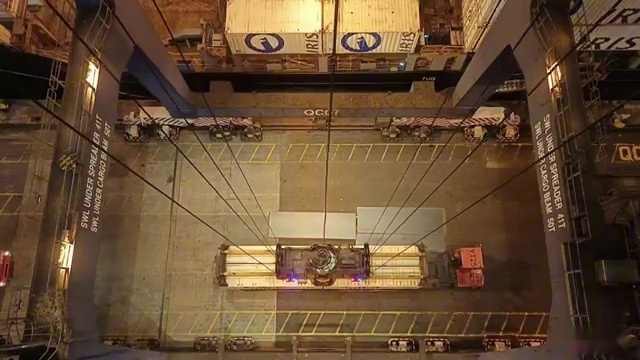container: (221, 0, 426, 63), (208, 238, 439, 293), (214, 0, 430, 33), (207, 1, 436, 30), (222, 7, 420, 37), (213, 0, 437, 22), (210, 0, 436, 19), (213, 0, 437, 16)
guide_mark: (69, 309, 543, 333), (110, 145, 538, 165)
spreader: (213, 239, 433, 291)
target_slot: (203, 238, 430, 293)
